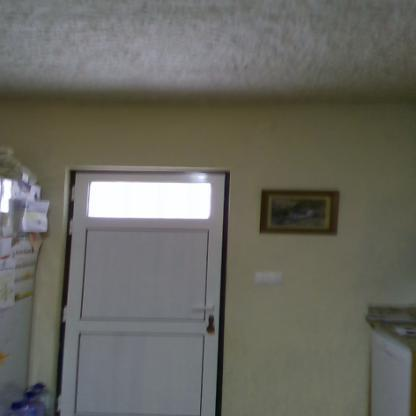door: (70, 170, 220, 416)
hinged: (62, 305, 68, 322), (57, 395, 62, 415), (70, 186, 76, 201), (69, 220, 74, 236)
lever: (188, 304, 216, 314)
